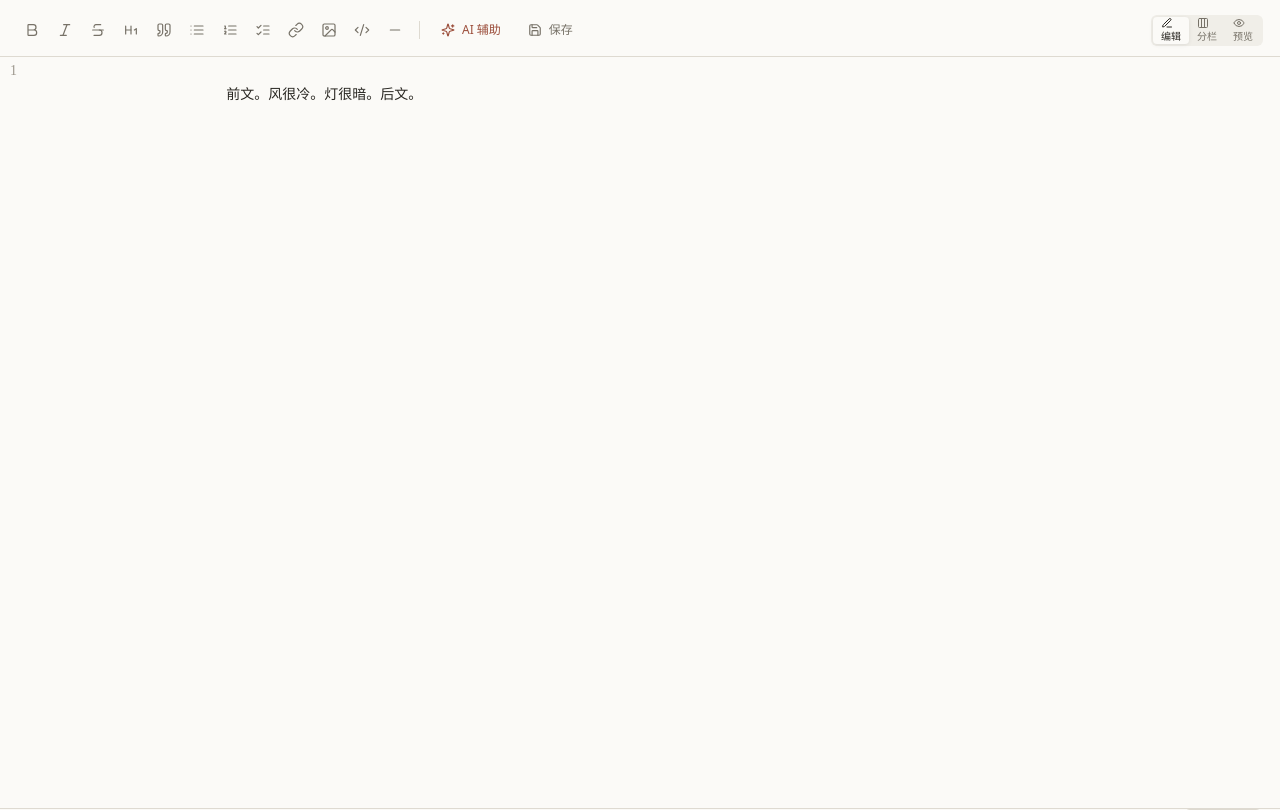
Test: opens AI in the manuscript without sending, and sends only the explicitly captured selection
Click the button "AI 辅助" at (471, 30), box [429,14,513,46]
(page scrolled)
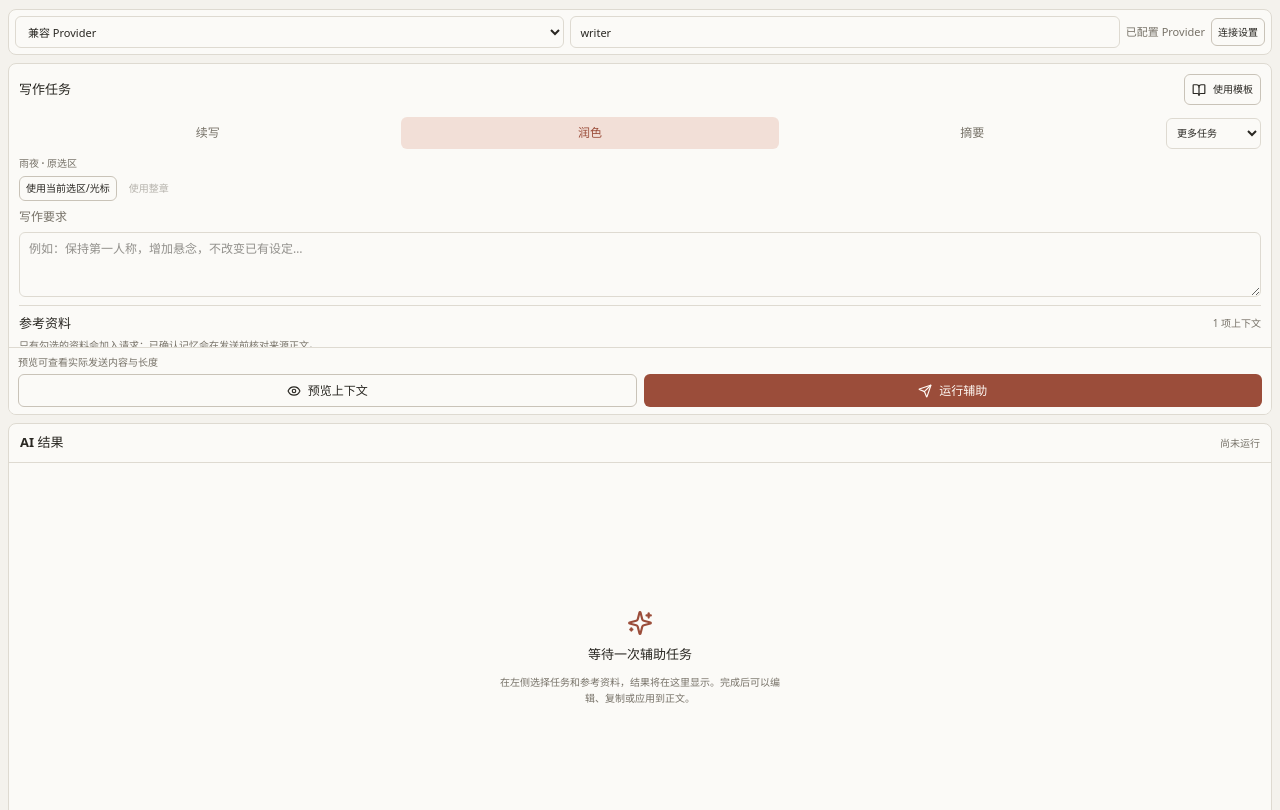
Click the button "运行辅助" at (953, 391), box [644,374,1262,407]
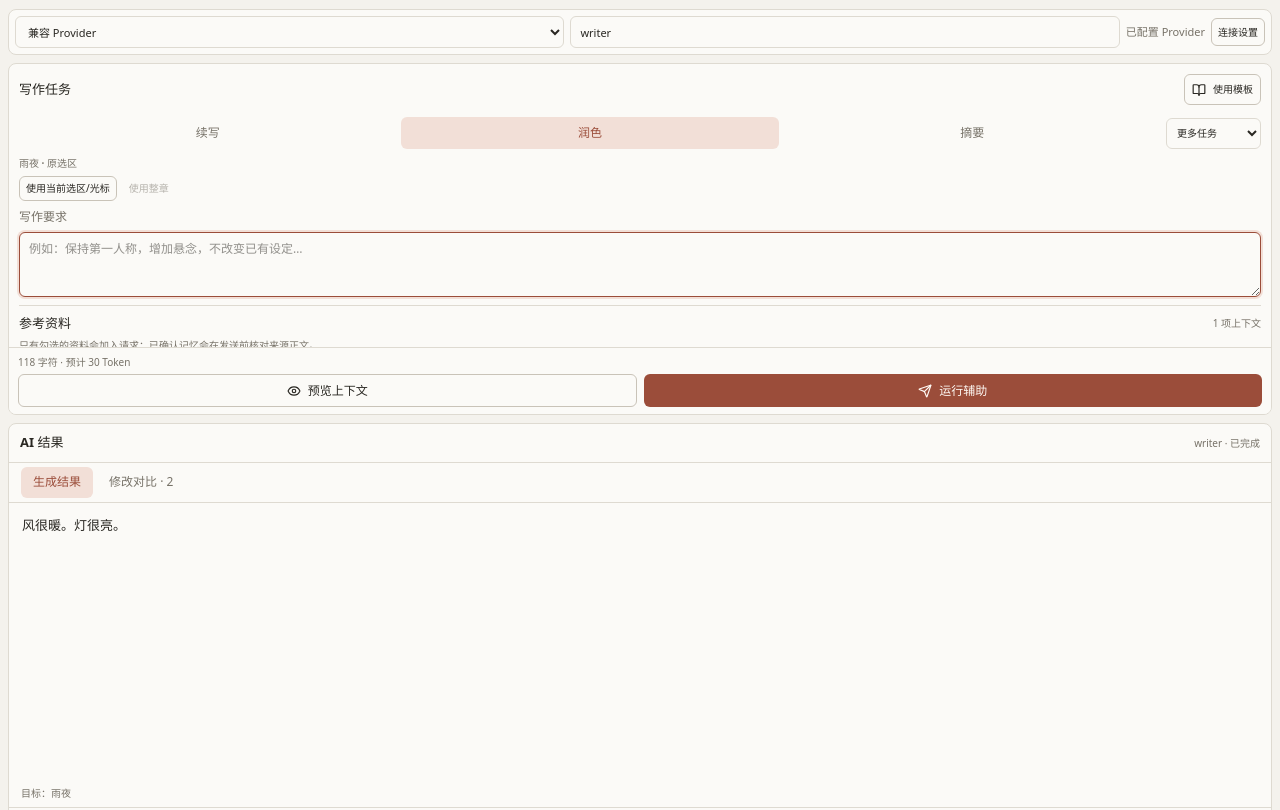
Now the text box showing "风很暖。灯很亮。" is shown, box [9,503,1271,780]
